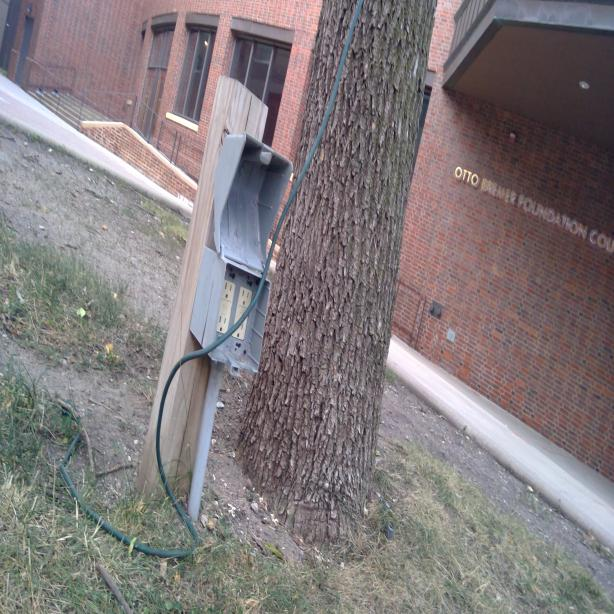typeb: (223, 281, 233, 303), (240, 286, 250, 306), (218, 312, 227, 332), (235, 322, 246, 338)
